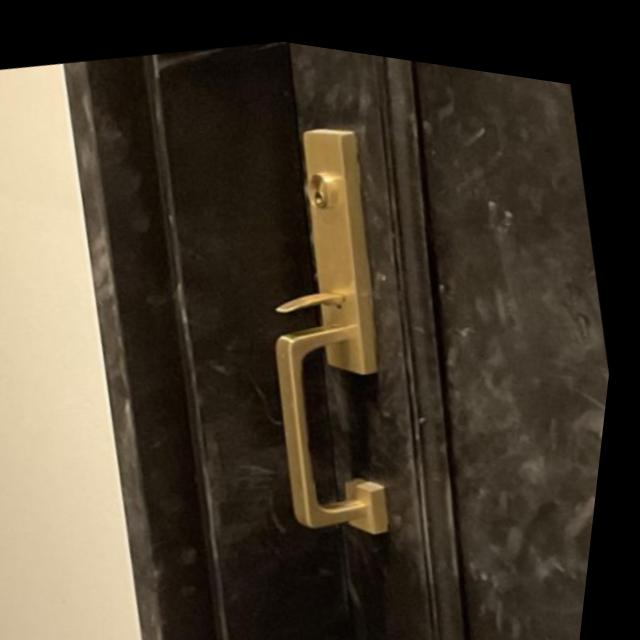door_handle: (233, 282, 455, 565)
